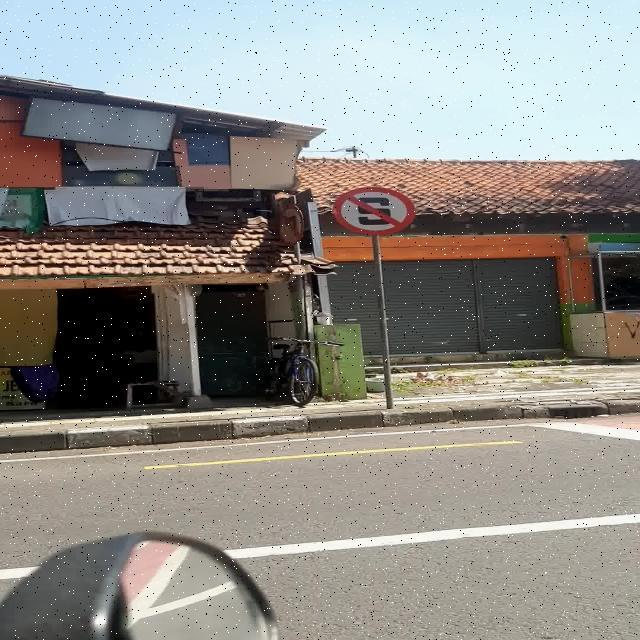Dilarang Berhenti: (333, 187, 414, 234)
